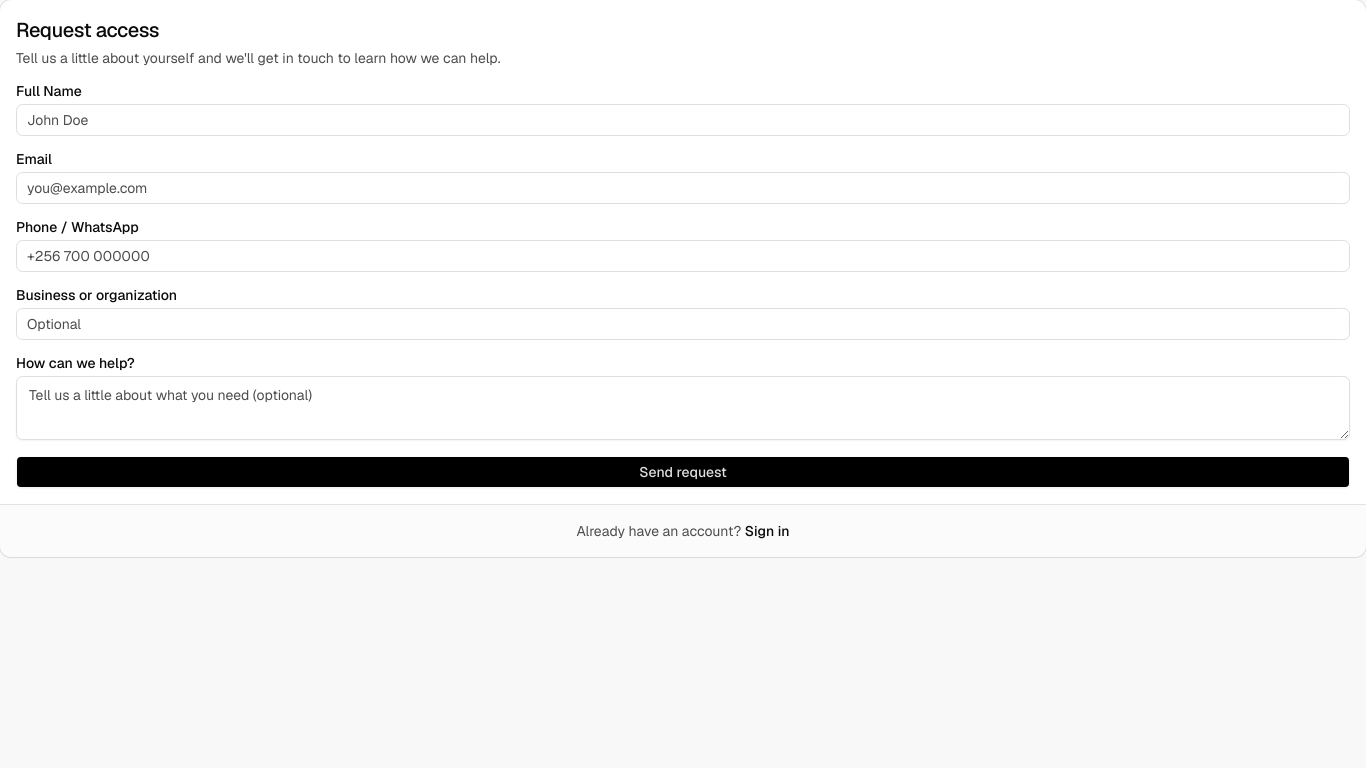
RequestAccessPage › requires at least one contact method in the browser
The image size is (1366, 768).
Type "Amina Namusoke" into the field labelled "Full Name" at (683, 120), box [16,104,1350,136]
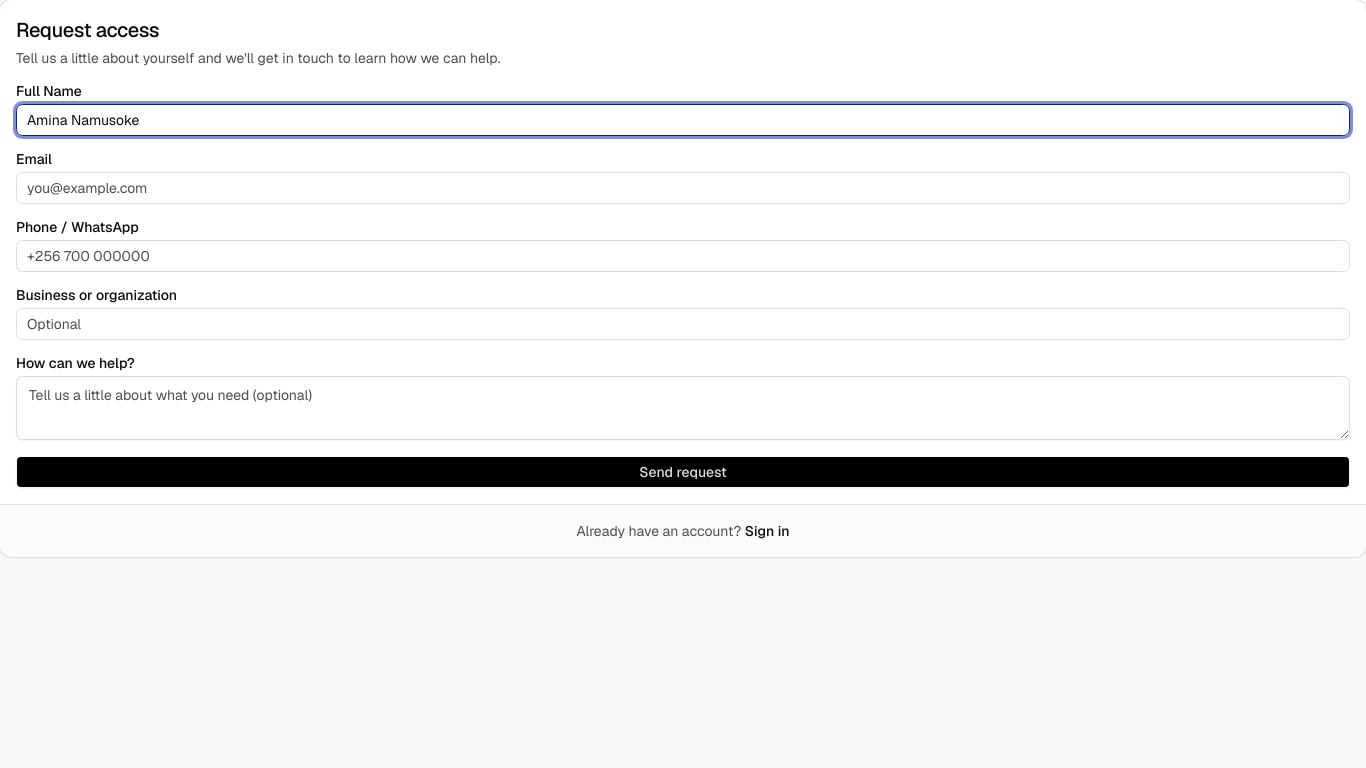
Click the button "Send request" at (683, 472), box [16,456,1350,488]
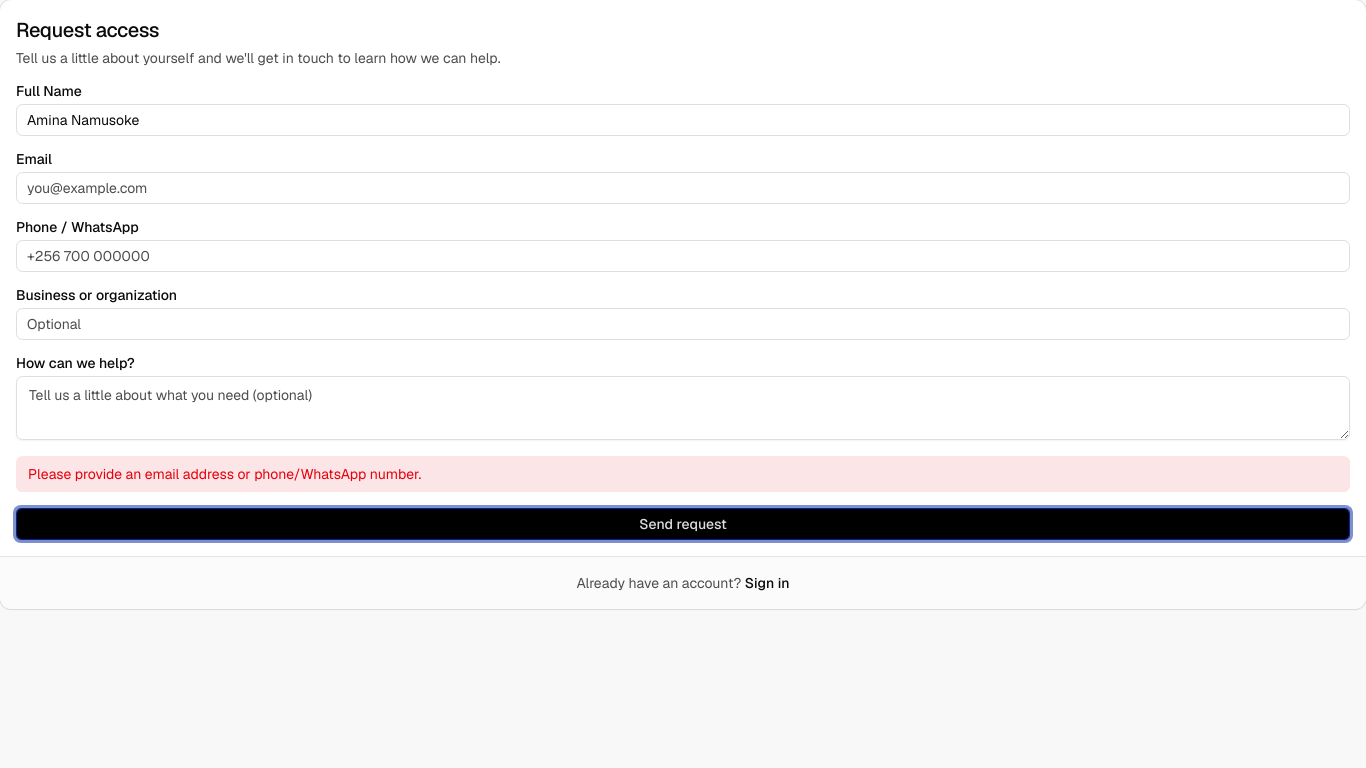
expect the text "Please provide an email address or phone/WhatsApp number." is shown: met, box [16,456,1350,492]
